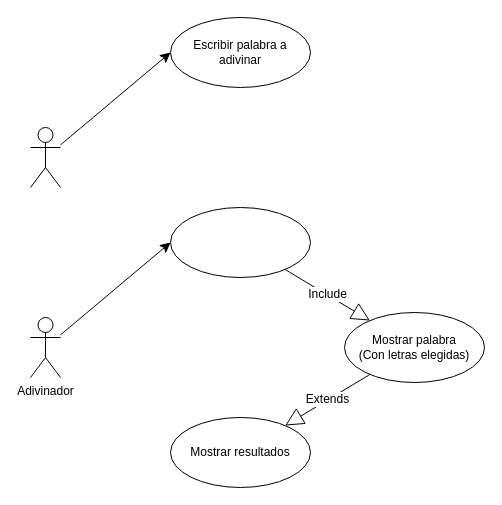
Some shapes in this 502 by 505 pixel diagram are drawn without their labels. The shapes that lost their labels are listed below. From the top down, each one's centre as x and y in pixels, then its label:
At point 45,157: "Adivinado".
At point 240,242: "Elegir letra".
